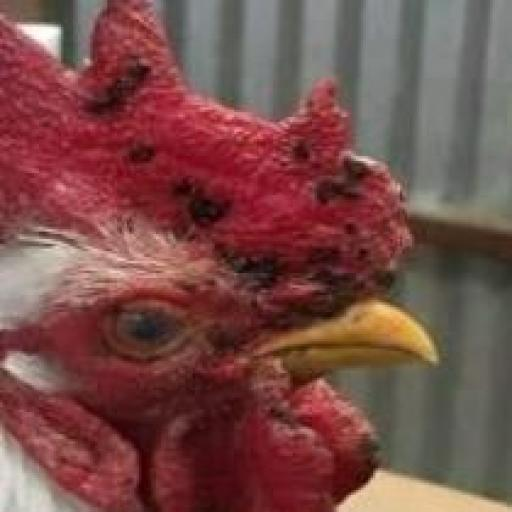disease: (214, 212, 399, 332), (259, 364, 380, 483), (68, 41, 163, 114), (307, 147, 388, 206), (175, 174, 235, 231), (275, 128, 331, 171), (113, 126, 162, 169)
